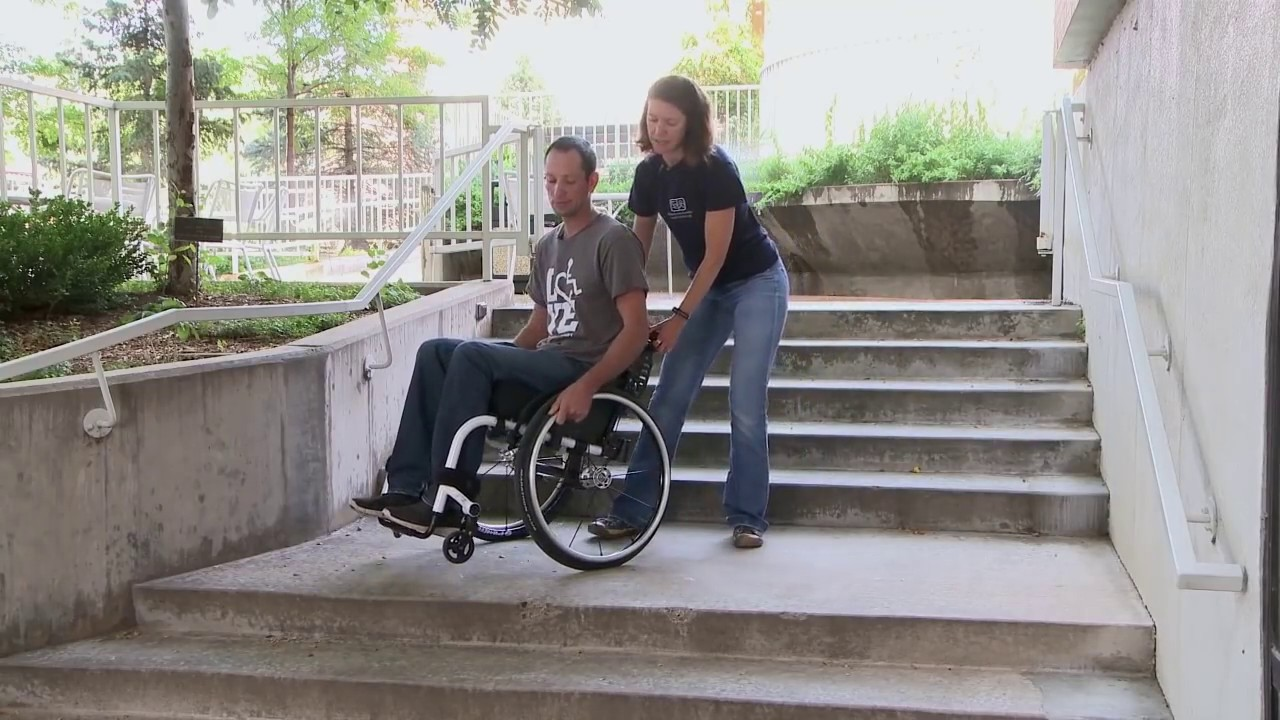wheelchair: (350, 135, 672, 569)
